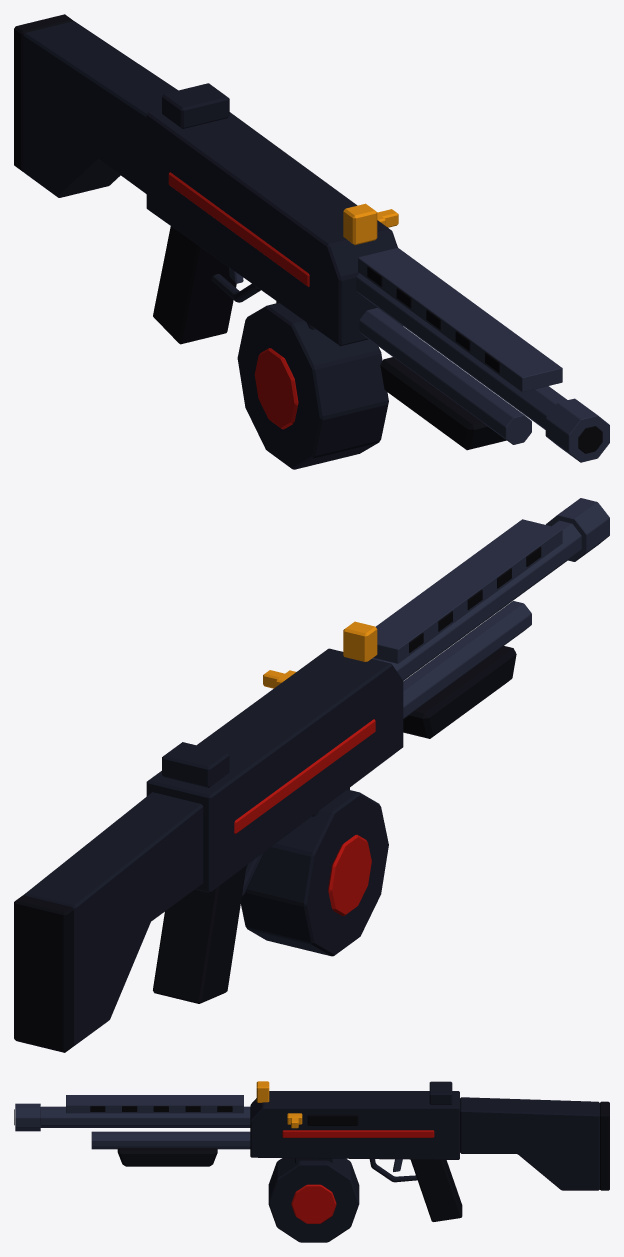
Rendered from myw_autoshotgun.obj.
3 views of the same model, one above another, from view 1: azimuth 30°, elevation 25°; view 2: azimuth 150°, elevation 25°; view 3: azimuth 270°, elevation 25° (orthographic). The views are drawn at different scales.
Parts seen in each view (by area): view 1: Body, Barrel, Drum, Forend; view 2: Body, Barrel, Drum, Forend; view 3: Body, Barrel, Drum, Forend.
Boxes of the visible parts, x1,y1,x2,y2 form: Body: (14, 14, 402, 346); Barrel: (356, 248, 609, 462); Drum: (237, 301, 388, 469); Forend: (380, 357, 506, 450); Body: (14, 621, 403, 1052); Barrel: (372, 498, 609, 718); Drum: (241, 788, 388, 956); Forend: (403, 646, 516, 738); Body: (250, 1081, 609, 1221); Barrel: (14, 1095, 250, 1149); Drum: (268, 1158, 359, 1242); Forend: (117, 1148, 217, 1166).
Size of the model in its own units: 0.51 by 1.3 by 4.69.
